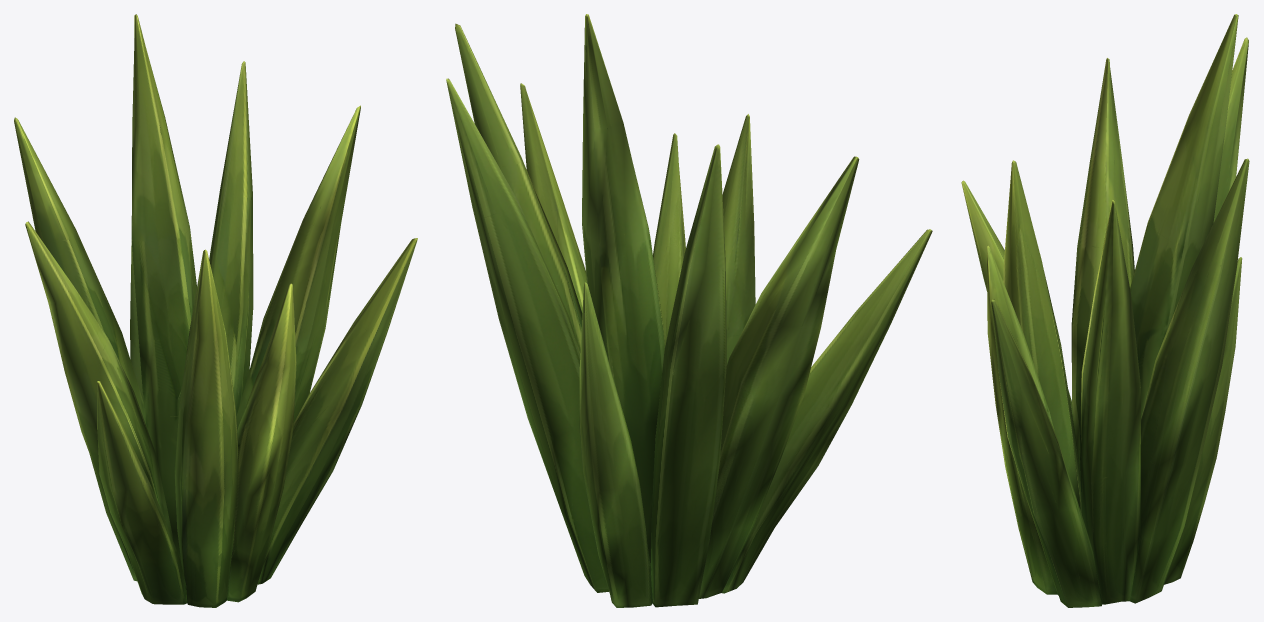
The model's file is Emerald_Agave.fbx.
3 renders of one model, left to right at view 1: azimuth 30°, elevation 25°; view 2: azimuth 150°, elevation 25°; view 3: azimuth 270°, elevation 25°, orthographic. The views are drawn at different scales.
Parts seen in each view (by area): view 1: mesh_node; view 2: mesh_node; view 3: mesh_node.
Boxes of the visible parts, x1,y1,x2,y2 form: mesh_node: (14, 14, 417, 607); mesh_node: (446, 14, 932, 607); mesh_node: (961, 14, 1249, 607).
Size of the model in its own units: 68.16 by 100 by 46.29.
Materials: 1 (1 with a texture image).
